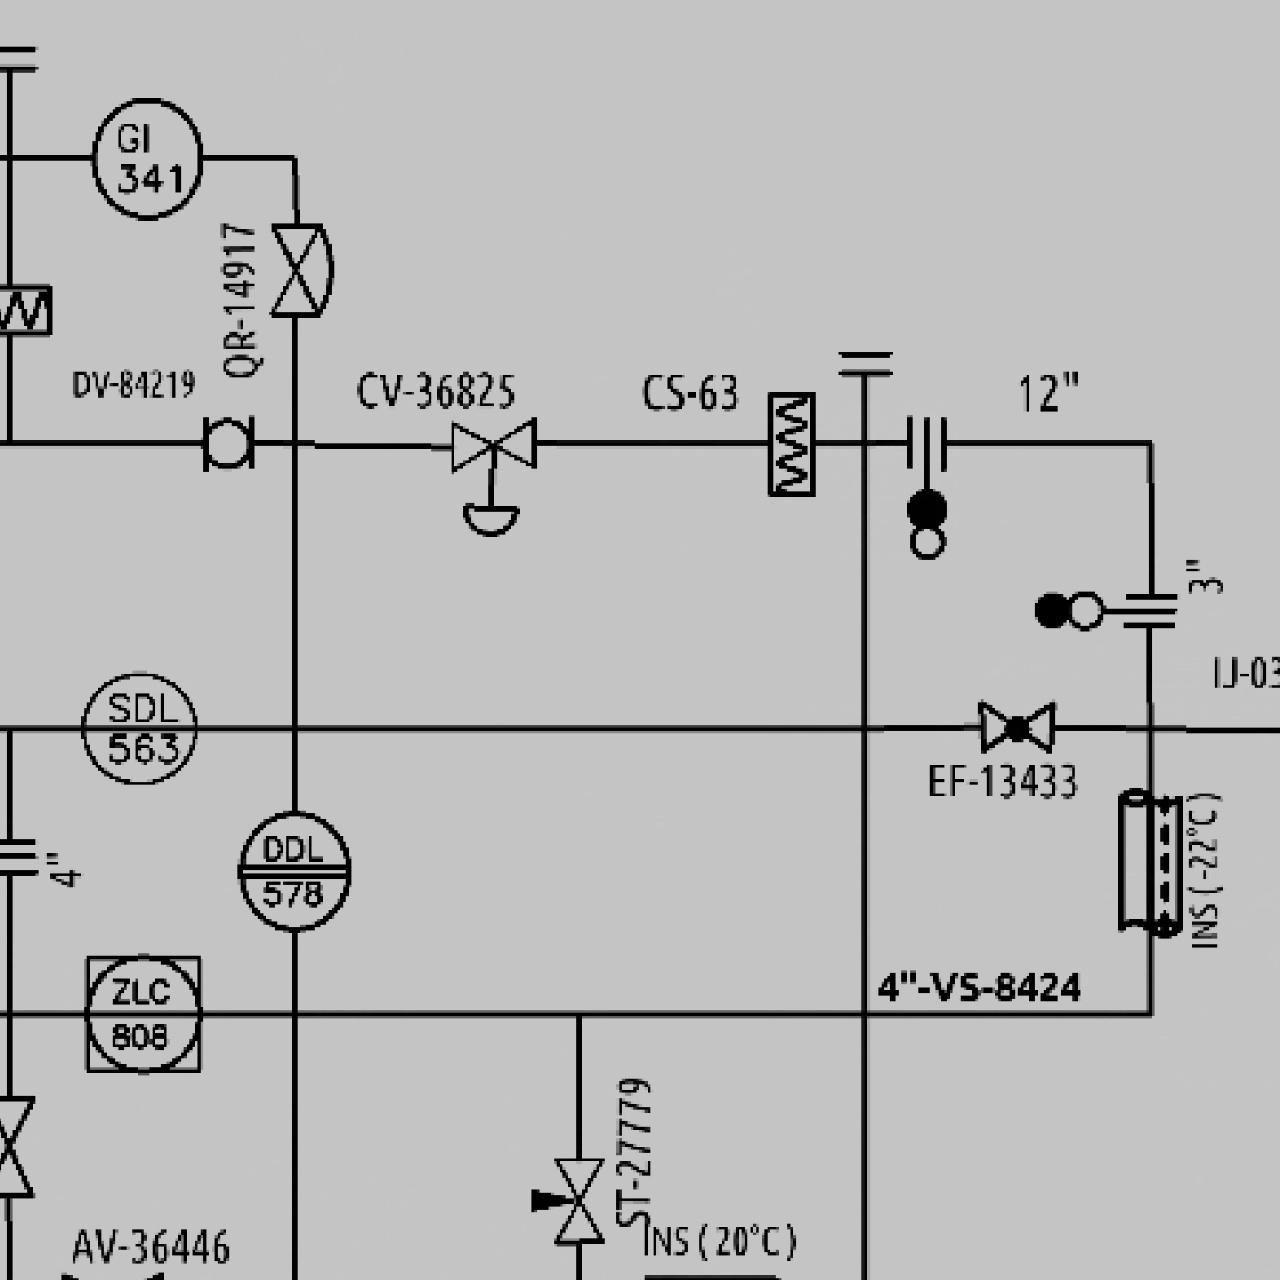Control-Panel: (226, 806, 354, 935)
